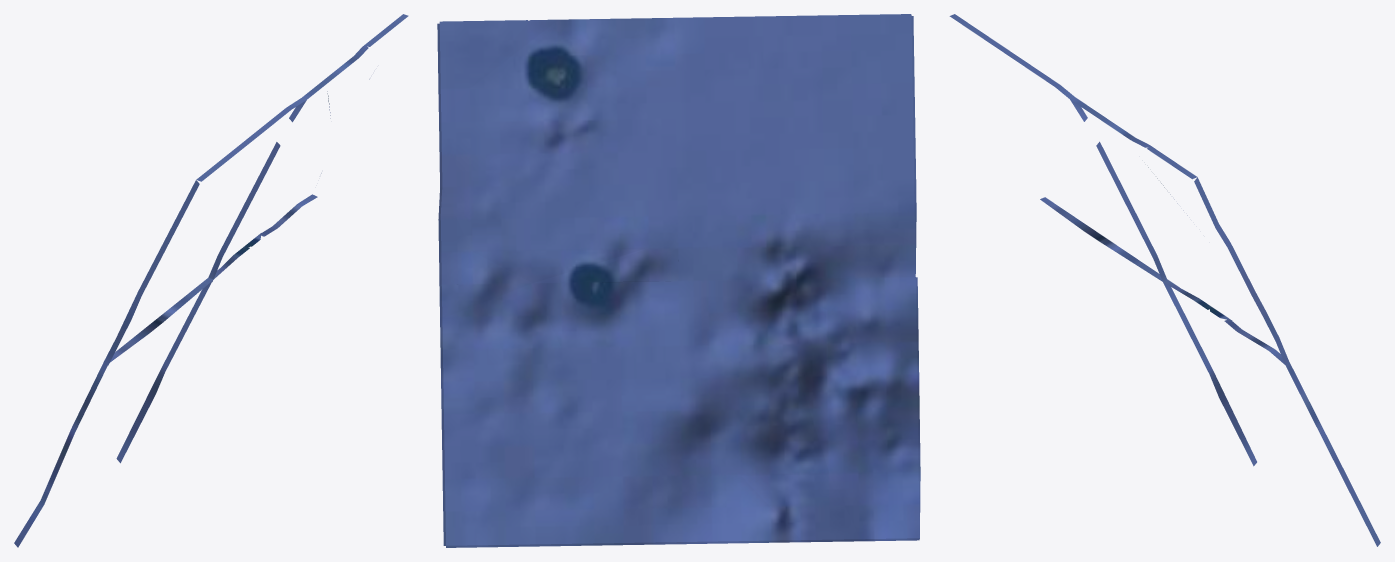
3 renders of one model, left to right at view 1: azimuth 30°, elevation 25°; view 2: azimuth 150°, elevation 25°; view 3: azimuth 270°, elevation 25°, orthographic. The views are drawn at different scales.
Size of the model in its own units: 39109 by 35929 by 33553.
Materials: 1 (1 with a texture image).
